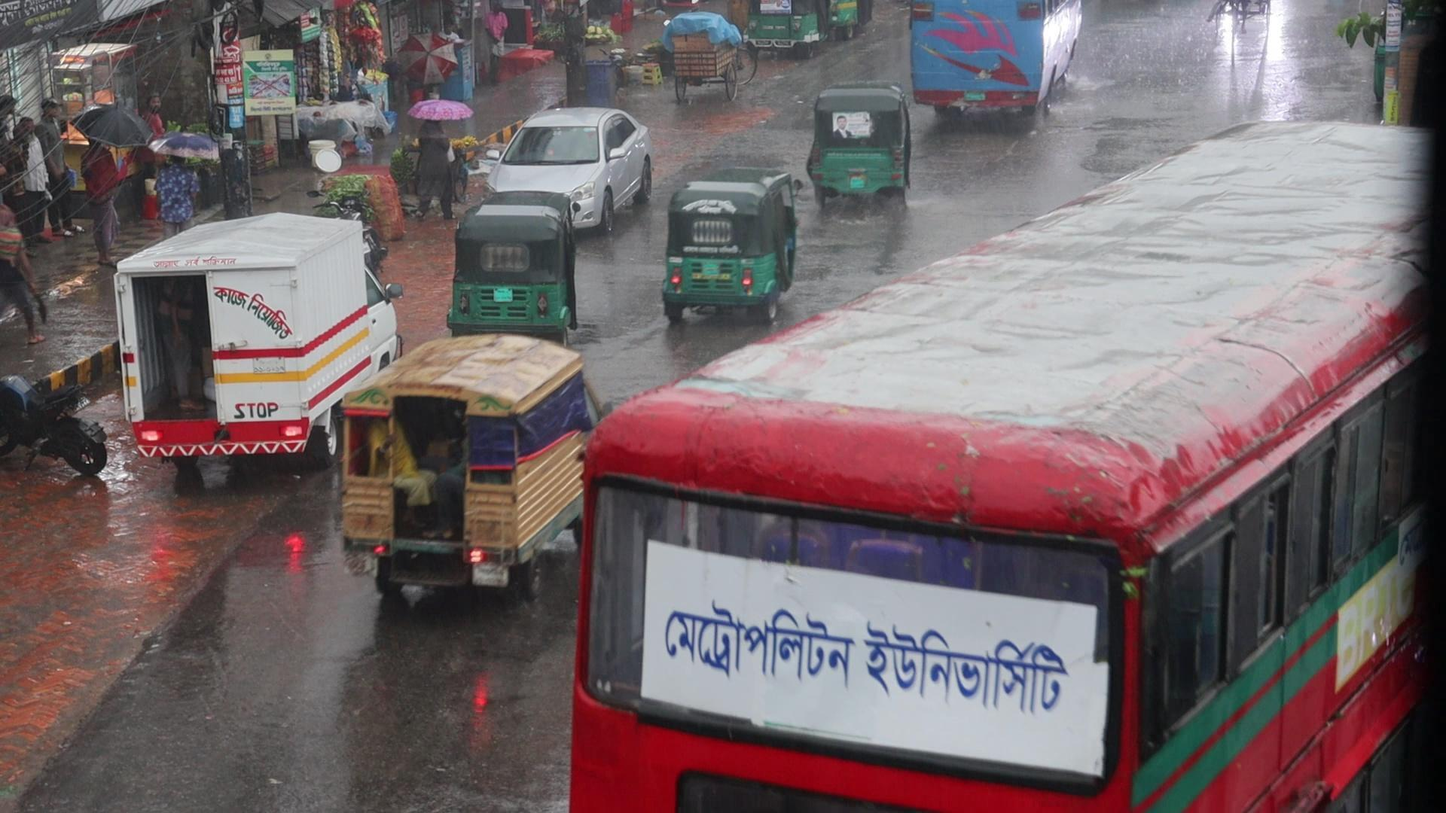Bus: (572, 117, 1446, 813)
Car: (485, 104, 654, 194)
Truck: (333, 330, 578, 599)
